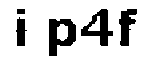4: (79, 6, 115, 49)
f: (116, 5, 141, 49)
i: (11, 4, 32, 50)
p: (46, 16, 77, 60)
